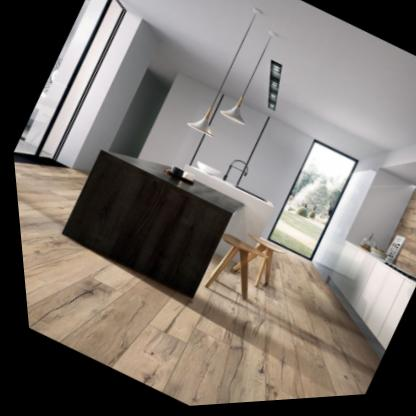Wooden floor: (11, 156, 376, 408)
